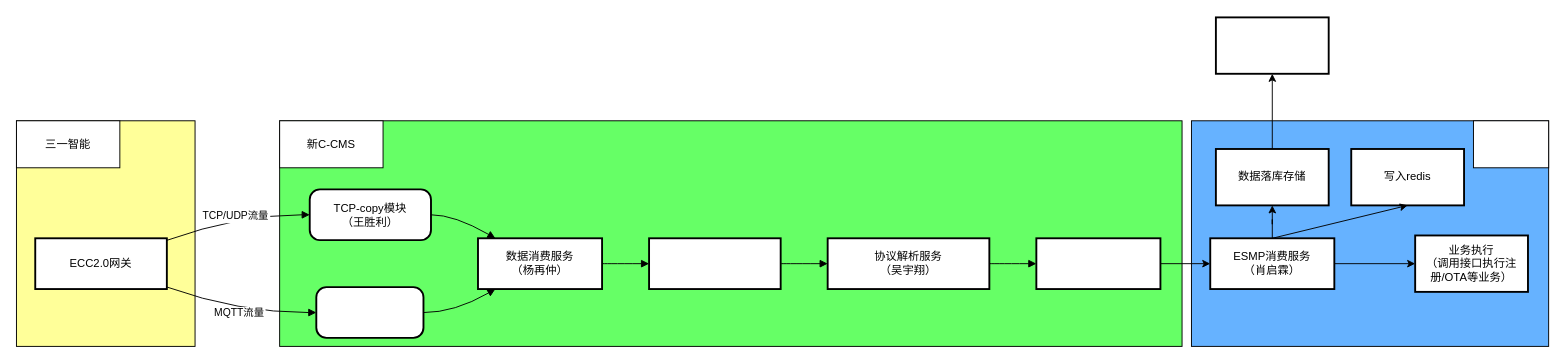
The diagram is 1565 pixels wide and 363 high, and some of its shapes have lost their labels. The centre of each missing label's shape, as x and y in pixels:
"kafka集群 （CMS-ESMP对接）" belongs at point (1098, 263).
"kafka集群 （新C网关接入）" belongs at point (714, 263).
"MQTT消费服务 （杨再仲）" belongs at point (369, 312).
"外部应用使用API" belongs at point (1271, 45).
"新C-ESMP" belongs at point (1511, 144).
